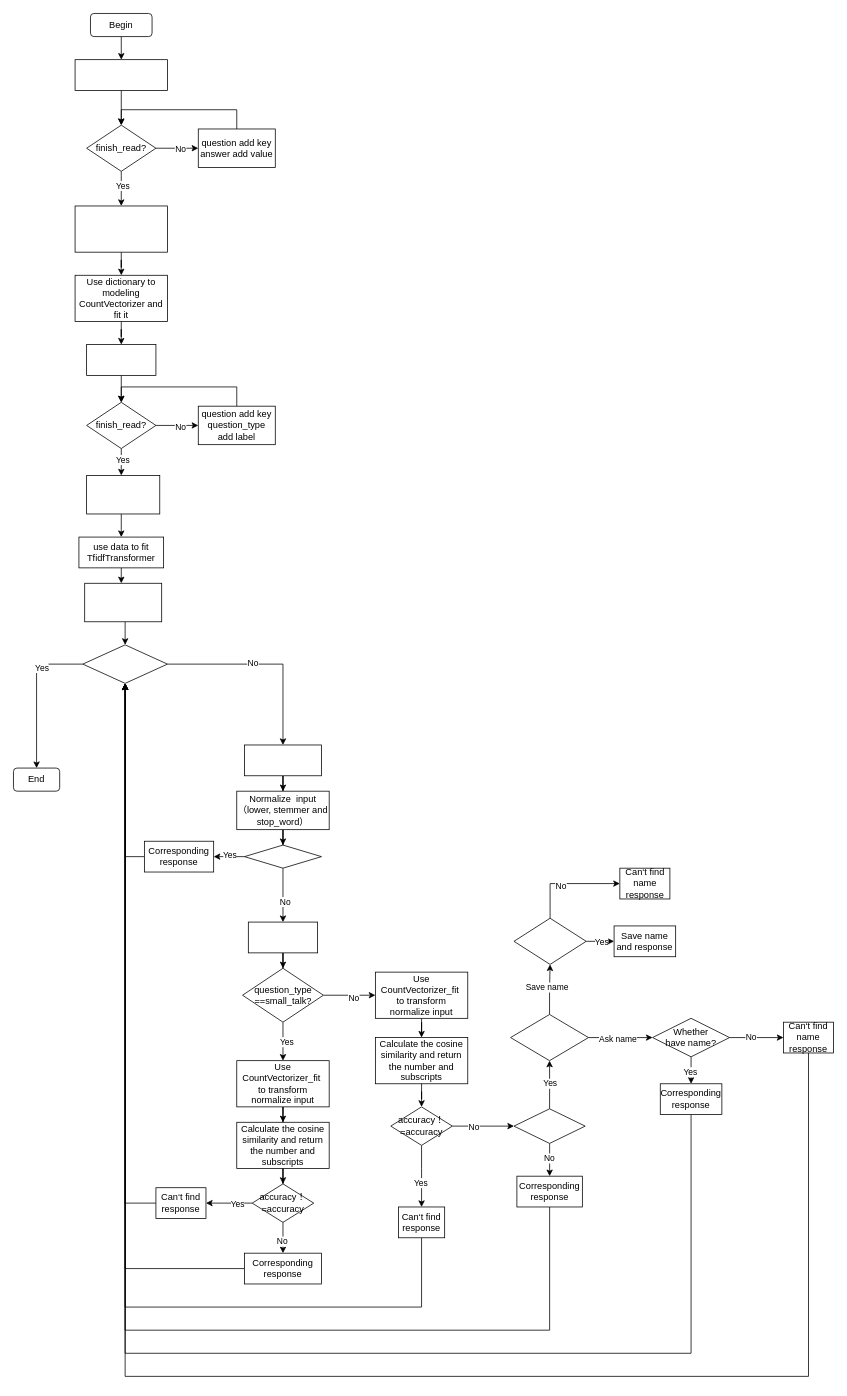
The diagram is 847 pixels wide and 1396 high, and some of its shapes have lost their labels. The centre of each missing label's shape, as x and y in pixels:
"get dictionary question is key answer is value" belongs at point 120,228.
"get_data" belongs at point 121,359.
"input = Stop？" belongs at point 124,663.
"input == null ?" belongs at point 282,856.
"Is ask name？" belongs at point 549,1125.
"Is it possible to get names" belongs at point 549,940.
"read_csv" belongs at point 120,74.
"Save name or ask name?" belongs at point 549,1037.
"translate input and check speller" belongs at point 282,760.
"Use classifier to modify question" belongs at point 283,937.
"use dataset divide data by train_test_split" belongs at point 123,494.
"Use Logistic regression to build classifier" belongs at point 123,602.
